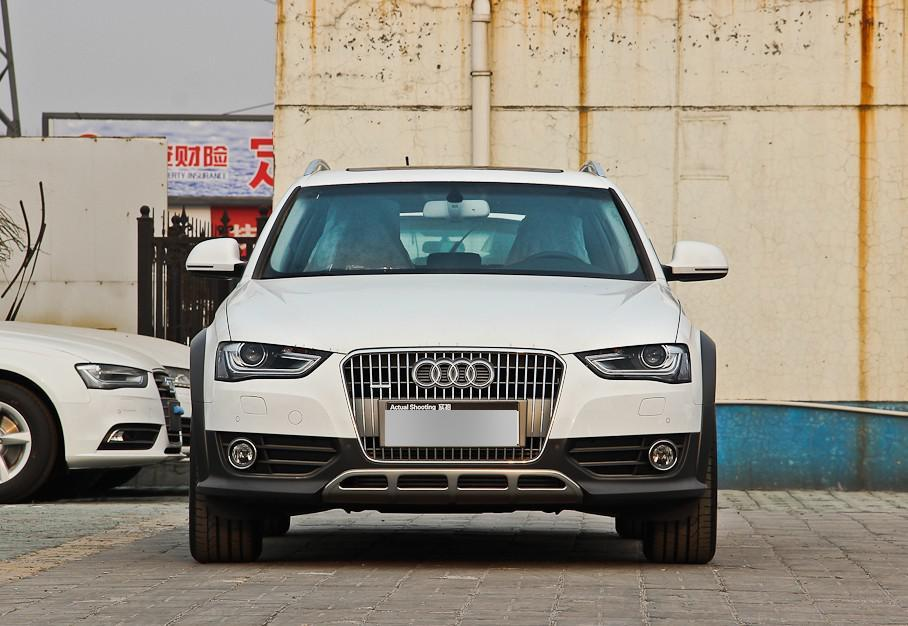Wagon: (184, 157, 731, 565)
